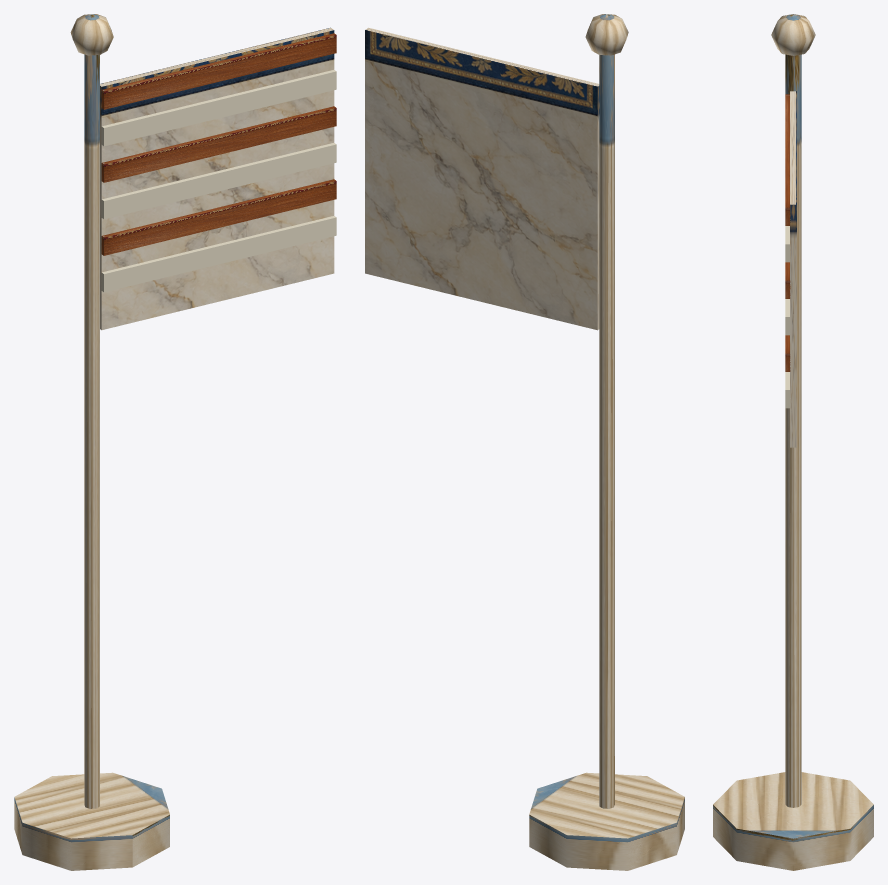
Rendered from flag.gltf.
3 renders of one model, left to right at view 1: azimuth 30°, elevation 25°; view 2: azimuth 150°, elevation 25°; view 3: azimuth 270°, elevation 25°, orthographic.
Parts seen in each view (by area): view 1: kit:0:furniture:blue:, kit:0:furniture:gold:, kit:0:furniture:red:, kit:0:furniture:ivory:; view 2: kit:0:furniture:blue:, kit:0:furniture:gold:; view 3: kit:0:furniture:gold:, kit:0:furniture:blue:, kit:0:furniture:red:, kit:0:furniture:ivory:.
Boxes of the visible parts, x1,y1,x2,y2 form: kit:0:furniture:blue:: (100,27,334,330); kit:0:furniture:gold:: (14,14,169,870); kit:0:furniture:red:: (101,33,336,255); kit:0:furniture:ivory:: (101,70,336,292); kit:0:furniture:blue:: (365,27,599,330); kit:0:furniture:gold:: (529,14,684,870); kit:0:furniture:gold:: (713,14,873,870); kit:0:furniture:blue:: (790,91,796,447); kit:0:furniture:red:: (785,94,790,371); kit:0:furniture:ivory:: (785,226,790,408).
Size of the model in its own units: 0.8 by 2.03 by 0.36.
4 materials, 3 textured.
